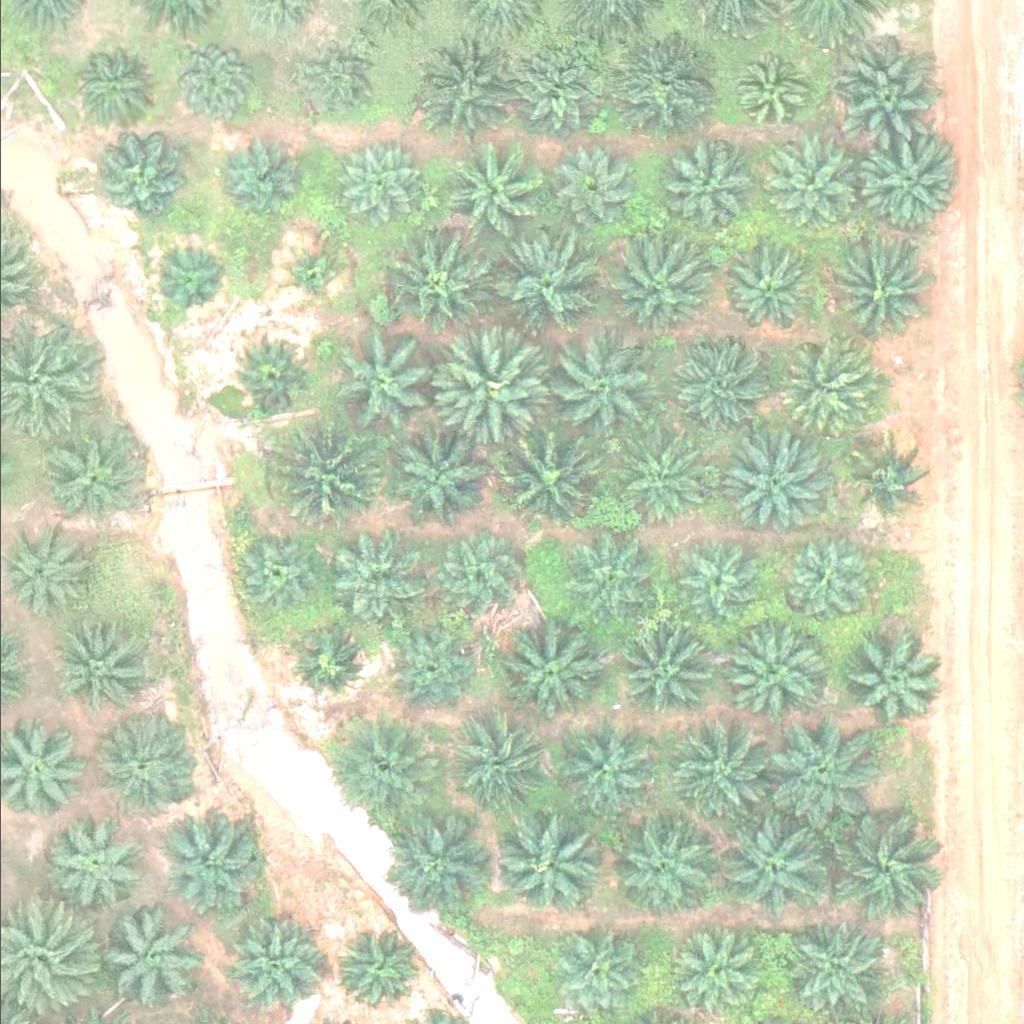Kelapa_Sawit: (599, 232, 713, 345), (609, 808, 723, 921), (604, 27, 717, 140), (434, 338, 547, 451), (499, 612, 612, 725), (763, 714, 876, 827), (319, 711, 432, 824), (715, 812, 828, 925), (498, 800, 611, 913), (823, 45, 937, 157), (539, 337, 653, 449), (490, 231, 603, 343), (388, 230, 501, 342), (325, 333, 438, 445), (719, 426, 832, 538), (494, 426, 607, 538), (273, 424, 386, 536), (716, 614, 829, 726), (659, 717, 772, 829), (438, 705, 551, 817), (827, 811, 940, 923), (375, 804, 488, 916), (862, 130, 963, 230), (756, 133, 857, 233), (443, 142, 544, 242), (825, 234, 926, 334), (780, 341, 881, 441), (617, 433, 718, 533), (383, 426, 484, 526), (39, 429, 140, 529), (316, 524, 417, 624), (837, 624, 938, 724), (616, 617, 717, 717), (786, 922, 887, 1022), (100, 909, 201, 1009), (161, 807, 262, 907), (96, 715, 197, 815), (47, 615, 148, 715), (421, 43, 521, 143), (667, 342, 767, 442), (559, 716, 659, 816), (215, 912, 315, 1012), (46, 811, 146, 911), (669, 140, 757, 228), (548, 148, 636, 236), (328, 140, 416, 228), (89, 137, 177, 225), (284, 620, 372, 708), (676, 532, 764, 620), (673, 926, 761, 1014), (553, 929, 641, 1017), (62, 42, 150, 129), (169, 37, 257, 124), (290, 37, 378, 124), (723, 48, 811, 135), (506, 49, 594, 136), (222, 135, 310, 222), (716, 249, 804, 336), (844, 440, 932, 527), (785, 530, 873, 617), (558, 535, 646, 622), (433, 531, 521, 618), (229, 533, 317, 620), (388, 626, 476, 713), (330, 925, 418, 1012), (233, 335, 309, 410), (151, 241, 226, 316), (274, 242, 337, 305)
